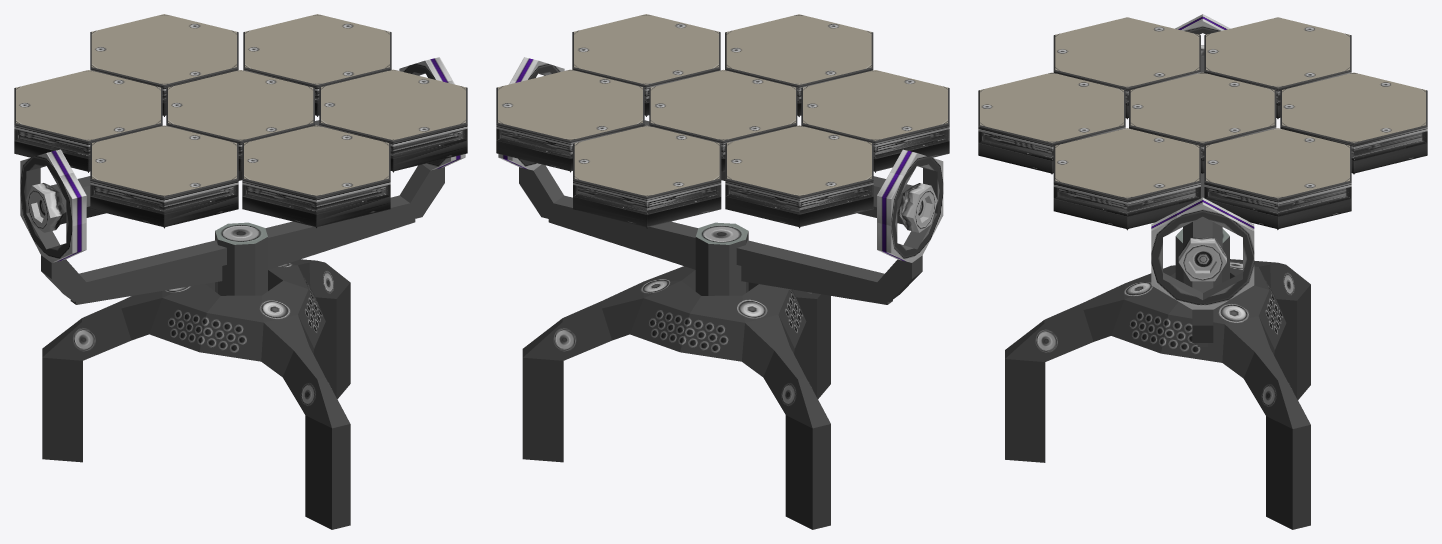
Rendered from solar-panel-1.glb.
3 views of the same model, side by side, from view 1: azimuth 30°, elevation 25°; view 2: azimuth 150°, elevation 25°; view 3: azimuth 270°, elevation 25° (orthographic).
Visible parts, largest first — view 1: Cylinder.023, Cylinder.006, Cylinder.007, Cylinder.005, Cylinder.003, Cylinder.002, Cylinder.001, Cylinder.004; view 2: Cylinder.023, Cylinder.003, Cylinder.002, Cylinder.001, Cylinder.007, Cylinder.005, Cylinder.004, Cylinder.006; view 3: Cylinder.023, Cylinder.005, Cylinder.001, Cylinder.002, Cylinder.006, Cylinder.004, Cylinder.003, Cylinder.007.
Part boxes in pixels (x1,y1,x2,y2): Cylinder.023: [20, 57, 465, 529]; Cylinder.006: [242, 125, 390, 227]; Cylinder.007: [90, 125, 238, 228]; Cylinder.005: [319, 69, 467, 172]; Cylinder.003: [14, 70, 162, 172]; Cylinder.002: [90, 14, 238, 116]; Cylinder.001: [243, 14, 391, 116]; Cylinder.004: [166, 70, 314, 171]; Cylinder.023: [498, 57, 943, 529]; Cylinder.003: [725, 125, 873, 228]; Cylinder.002: [573, 125, 721, 228]; Cylinder.001: [496, 69, 644, 172]; Cylinder.007: [801, 70, 949, 172]; Cylinder.005: [572, 14, 720, 116]; Cylinder.004: [649, 69, 797, 171]; Cylinder.006: [725, 14, 873, 116]; Cylinder.023: [1005, 14, 1310, 529]; Cylinder.005: [1053, 128, 1200, 230]; Cylinder.001: [1204, 128, 1351, 229]; Cylinder.002: [1280, 72, 1427, 174]; Cylinder.006: [978, 72, 1125, 174]; Cylinder.004: [1129, 72, 1276, 173]; Cylinder.003: [1204, 17, 1351, 118]; Cylinder.007: [1053, 17, 1200, 119].
Bounding box in the file's own units: 29.11 × 23.76 × 27.86.
1 material, 1 textured.
